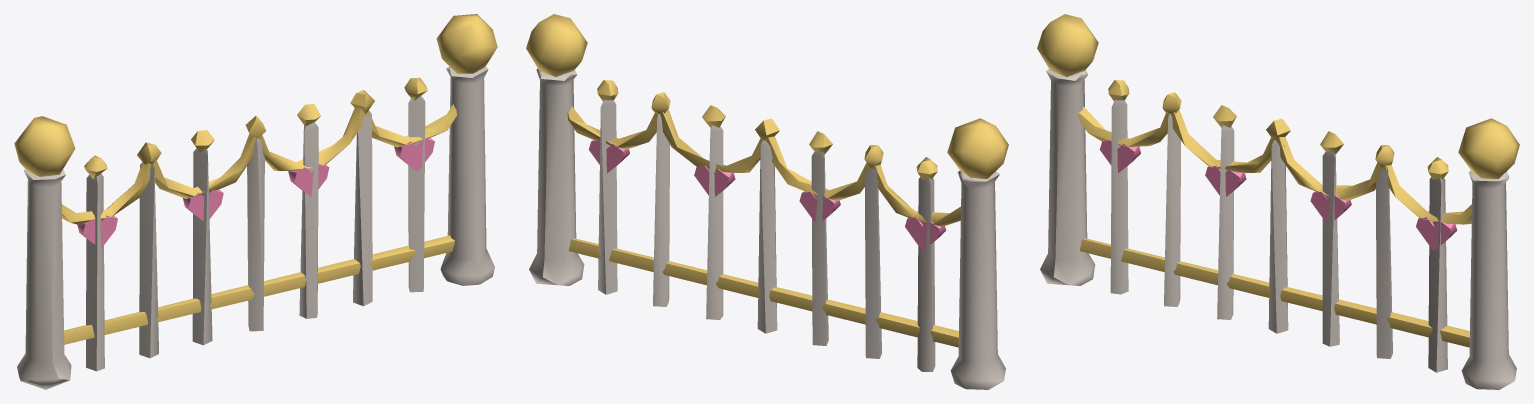
File: fence_segment.glb
3 renders of one model, left to right at view 1: azimuth 30°, elevation 25°; view 2: azimuth 150°, elevation 25°; view 3: azimuth 330°, elevation 25°, orthographic.
Parts seen in each view (by area): view 1: fence_segment; view 2: fence_segment; view 3: fence_segment.
Boxes of the visible parts, <box> form: fence_segment: <box>14,14,497,389</box>; fence_segment: <box>526,14,1008,389</box>; fence_segment: <box>1037,14,1519,389</box>.
Bounding box in the file's own units: 2.13 × 1.12 × 0.2518.
